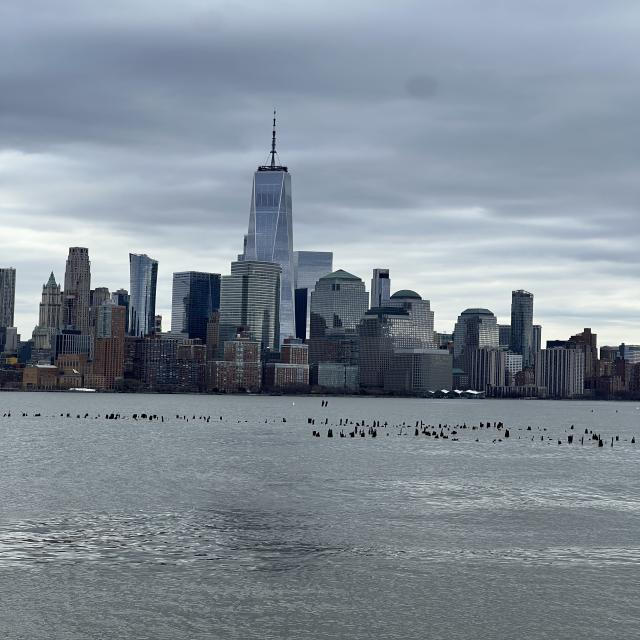WTC: (246, 110, 295, 264)
